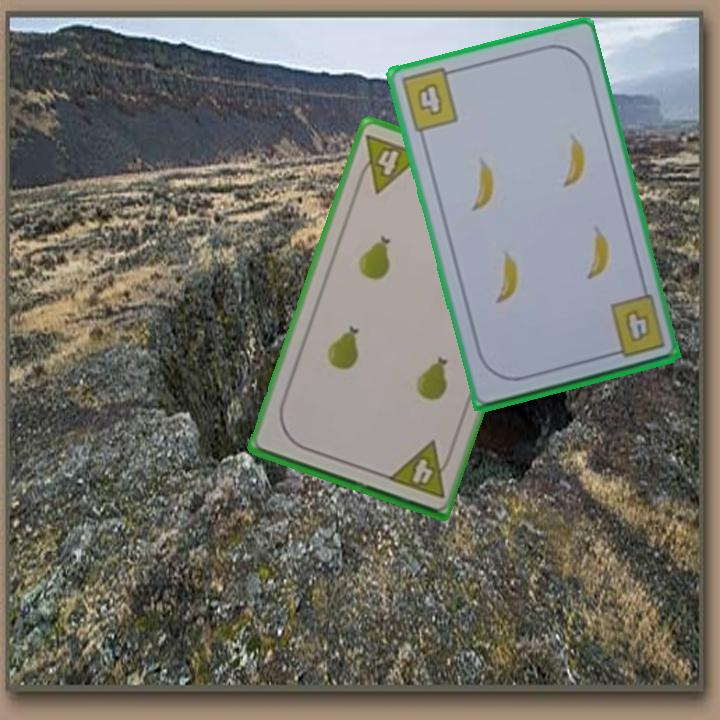4b: (397, 64, 461, 135), (604, 291, 668, 361)
4p: (352, 130, 426, 196), (384, 437, 456, 501)
